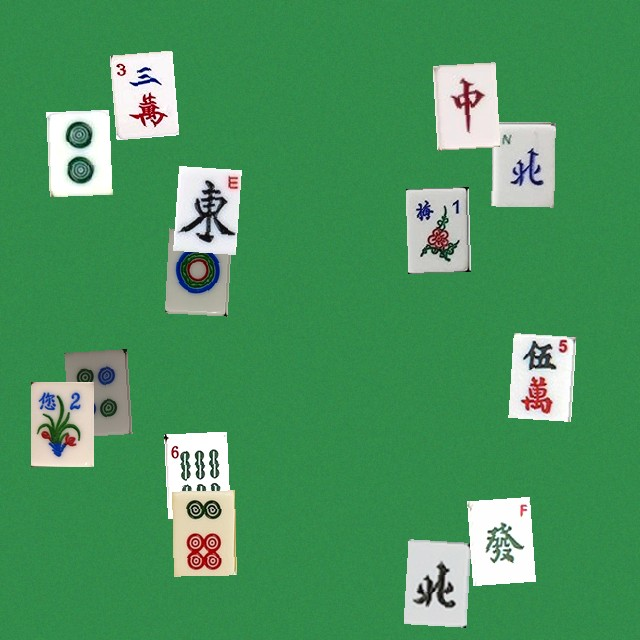tile: (491, 121, 554, 206), (432, 62, 495, 147), (403, 539, 466, 624), (405, 186, 468, 271), (164, 431, 227, 516), (508, 333, 571, 418), (46, 109, 109, 194), (64, 349, 127, 434), (164, 228, 227, 313), (467, 496, 530, 581), (173, 165, 236, 250), (172, 490, 235, 575), (109, 50, 172, 135), (30, 381, 93, 466)
